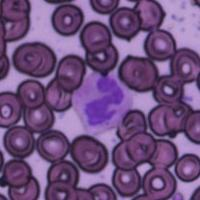N: (71, 71, 133, 134)
